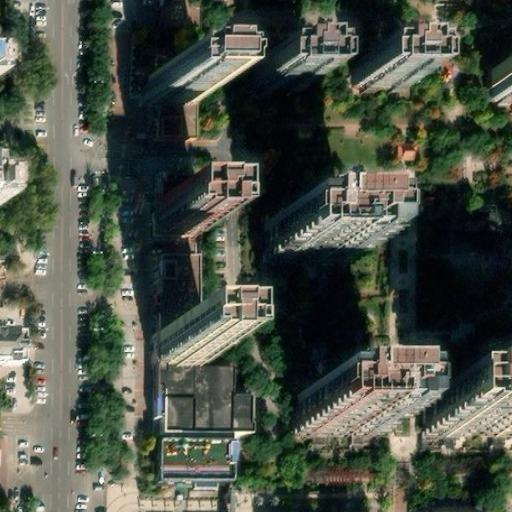building: (167, 362, 258, 428), (152, 209, 201, 330), (268, 215, 359, 255), (291, 399, 381, 437), (165, 438, 239, 479), (147, 69, 203, 103), (162, 195, 213, 231), (354, 52, 409, 85), (160, 330, 211, 365), (276, 45, 331, 74), (301, 464, 378, 484), (157, 103, 195, 136), (163, 173, 197, 195), (0, 326, 19, 364), (0, 164, 16, 206), (418, 503, 491, 512), (0, 35, 14, 72), (157, 57, 195, 69)
